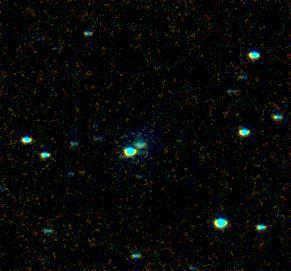star: (155, 163, 185, 193)
